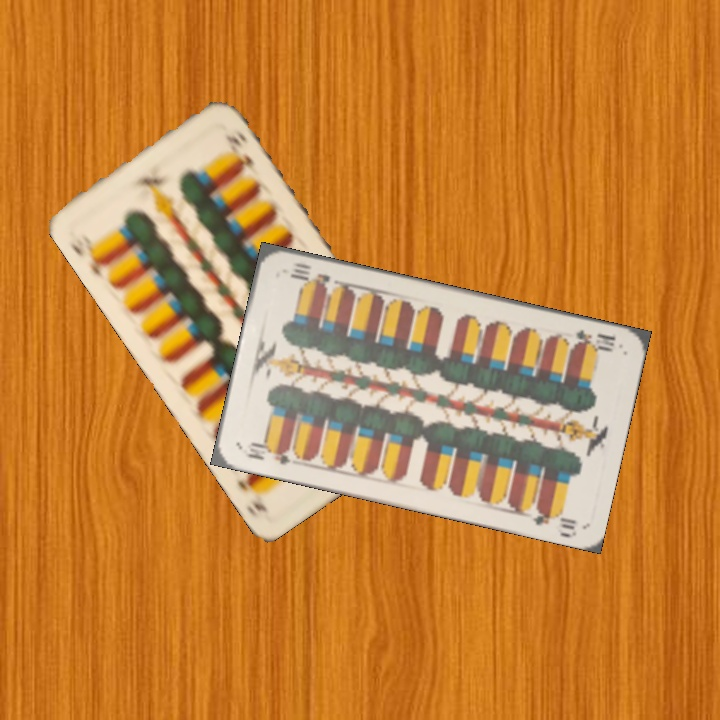E10: (66, 238, 111, 278), (238, 438, 293, 467), (570, 325, 619, 355)
